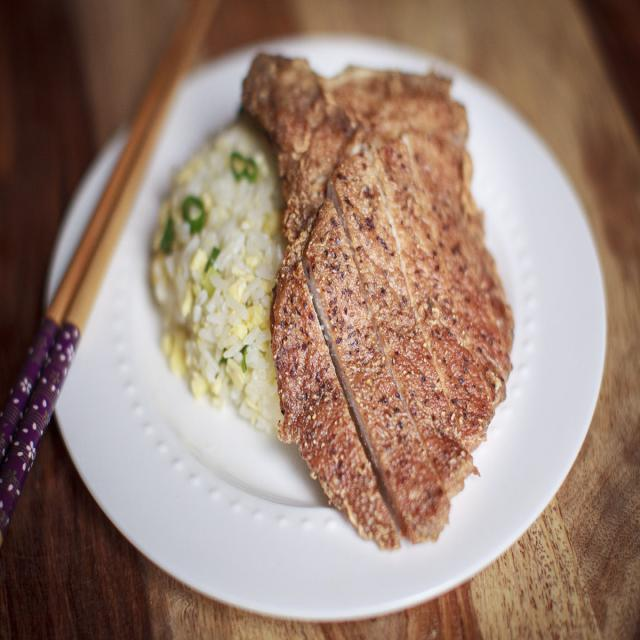Pork: (243, 55, 514, 549)
Rice: (149, 123, 285, 434)
